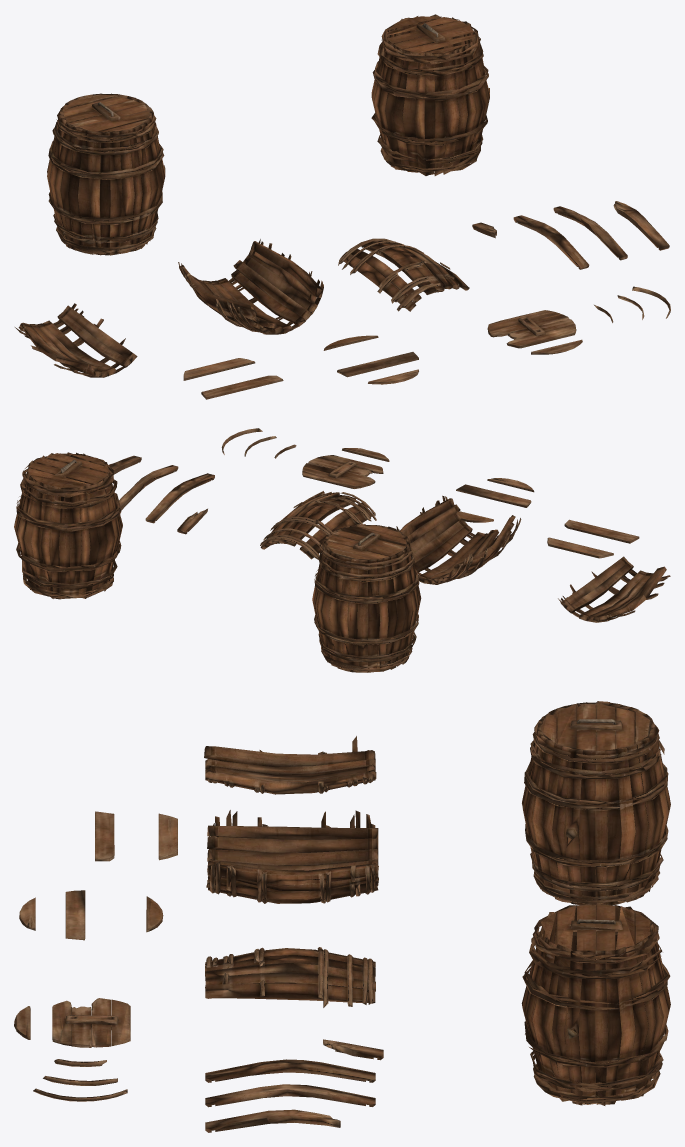
The model's file is wooden_barrels_01.glb.
3 views of the same model, one above another, from view 1: azimuth 30°, elevation 25°; view 2: azimuth 150°, elevation 25°; view 3: azimuth 270°, elevation 25° (orthographic). The views are drawn at different scales.
Parts seen in each view (by area): view 1: wooden_barrels_01_barrel02, wooden_barrels_01_barrel01, wooden_barrels_01_piece01, wooden_barrels_01_piece03, wooden_barrels_01_piece02, wooden_barrels_01_piece08, wooden_barrels_01_piece04, wooden_barrels_01_piece05, wooden_barrels_01_piece06, wooden_barrels_01_piece11, wooden_barrels_01_piece14, wooden_barrels_01_piece13; view 2: wooden_barrels_01_barrel02, wooden_barrels_01_barrel01, wooden_barrels_01_piece01, wooden_barrels_01_piece03, wooden_barrels_01_piece02, wooden_barrels_01_piece08, wooden_barrels_01_piece04, wooden_barrels_01_piece14, wooden_barrels_01_piece11, wooden_barrels_01_piece05, wooden_barrels_01_piece13; view 3: wooden_barrels_01_barrel02, wooden_barrels_01_barrel01, wooden_barrels_01_piece01, wooden_barrels_01_piece03, wooden_barrels_01_piece02, wooden_barrels_01_piece08, wooden_barrels_01_piece04, wooden_barrels_01_piece05, wooden_barrels_01_piece06, wooden_barrels_01_piece11, wooden_barrels_01_piece14, wooden_barrels_01_piece13 (+1 smaller).
Part boxes in pixels (x1,y1,x2,y2): wooden_barrels_01_barrel02: (47,93,165,255); wooden_barrels_01_barrel01: (371,14,489,175); wooden_barrels_01_piece01: (178,239,323,334); wooden_barrels_01_piece03: (338,238,469,311); wooden_barrels_01_piece02: (15,303,137,377); wooden_barrels_01_piece08: (487,310,576,348); wooden_barrels_01_piece04: (513,215,589,269); wooden_barrels_01_piece05: (553,206,627,260); wooden_barrels_01_piece06: (613,201,669,250); wooden_barrels_01_piece11: (337,352,418,377); wooden_barrels_01_piece14: (201,375,283,399); wooden_barrels_01_piece13: (183,358,255,380); wooden_barrels_01_barrel02: (312,524,421,672); wooden_barrels_01_barrel01: (14,452,122,599); wooden_barrels_01_piece01: (396,495,521,584); wooden_barrels_01_piece03: (260,491,376,559); wooden_barrels_01_piece02: (558,556,670,622); wooden_barrels_01_piece08: (302,455,383,488); wooden_barrels_01_piece04: (145,473,214,523); wooden_barrels_01_piece14: (564,519,639,543); wooden_barrels_01_piece11: (456,484,531,507); wooden_barrels_01_piece05: (119,465,178,510); wooden_barrels_01_piece13: (547,537,613,558); wooden_barrels_01_barrel02: (522,701,670,905); wooden_barrels_01_barrel01: (521,902,670,1105); wooden_barrels_01_piece01: (206,810,378,903); wooden_barrels_01_piece03: (205,947,375,1007); wooden_barrels_01_piece02: (204,736,376,794); wooden_barrels_01_piece08: (52,998,130,1047); wooden_barrels_01_piece04: (205,1059,375,1082); wooden_barrels_01_piece05: (205,1084,375,1107); wooden_barrels_01_piece06: (205,1109,340,1132); wooden_barrels_01_piece11: (65,890,85,940); wooden_barrels_01_piece14: (95,811,114,861); wooden_barrels_01_piece13: (158,813,177,860).
Bounding box in the file's own units: 4.44 × 0.9554 × 3.35.
Materials: 3 (3 with a texture image).
